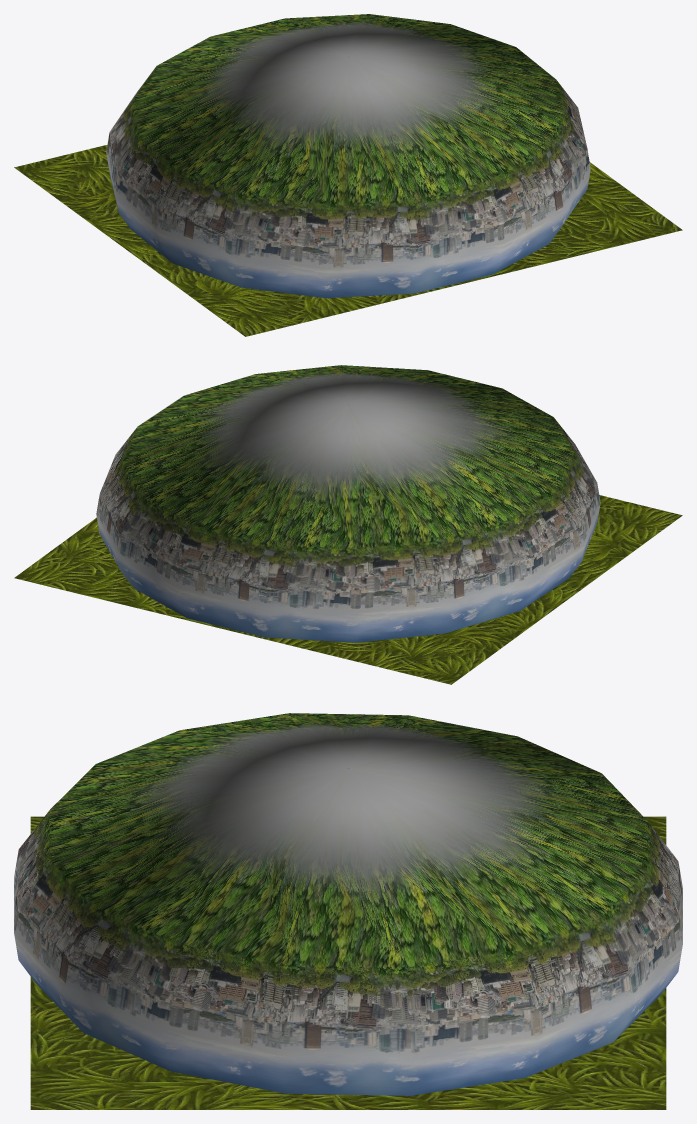
The model's file is Barracks.glb.
The picture shows the model from 3 angles, top to bottom: view 1: azimuth 30°, elevation 25°; view 2: azimuth 150°, elevation 25°; view 3: azimuth 270°, elevation 25°; orthographic projection. The views are drawn at different scales.
Parts seen in each view (by area): view 1: Barracks; view 2: Barracks; view 3: Barracks.
Boxes of the visible parts, bbox=[...] form: Barracks: bbox=[14, 14, 682, 336]; Barracks: bbox=[14, 365, 682, 684]; Barracks: bbox=[14, 713, 682, 1109].
Bounding box in the file's own units: 210 × 65.73 × 203.
5 materials, 5 textured.
